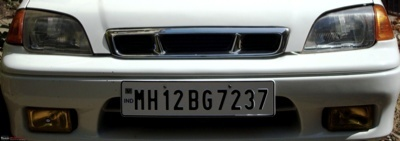plaka: (120, 79, 276, 118)
